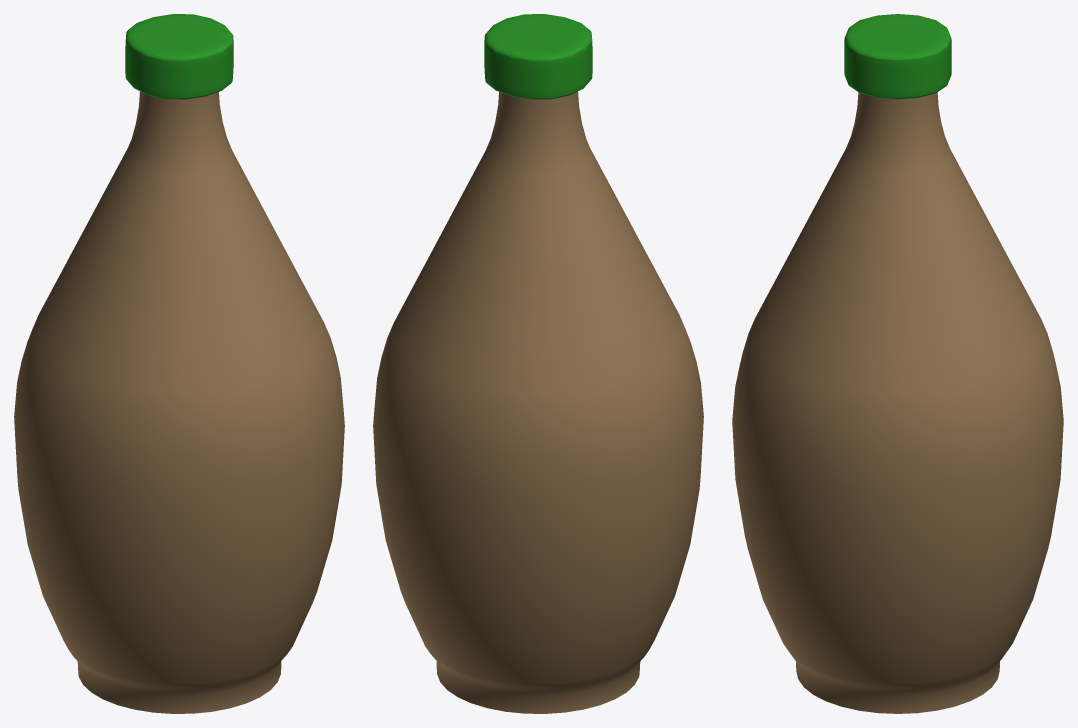
The model's file is PotionBottle_Style_03.fbx.
The picture shows the model from 3 angles, left to right: view 1: azimuth 30°, elevation 25°; view 2: azimuth 150°, elevation 25°; view 3: azimuth 270°, elevation 25°; orthographic projection.
Visible parts, largest first — view 1: SetA_PotionBottle_Style_03; view 2: SetA_PotionBottle_Style_03; view 3: SetA_PotionBottle_Style_03.
Part boxes in pixels (x1=…): SetA_PotionBottle_Style_03: x1=14, y1=14, x2=344, y2=713; SetA_PotionBottle_Style_03: x1=373, y1=14, x2=703, y2=713; SetA_PotionBottle_Style_03: x1=732, y1=14, x2=1063, y2=713.
Size of the model in its own units: 0.037 by 0.0784 by 0.037.
